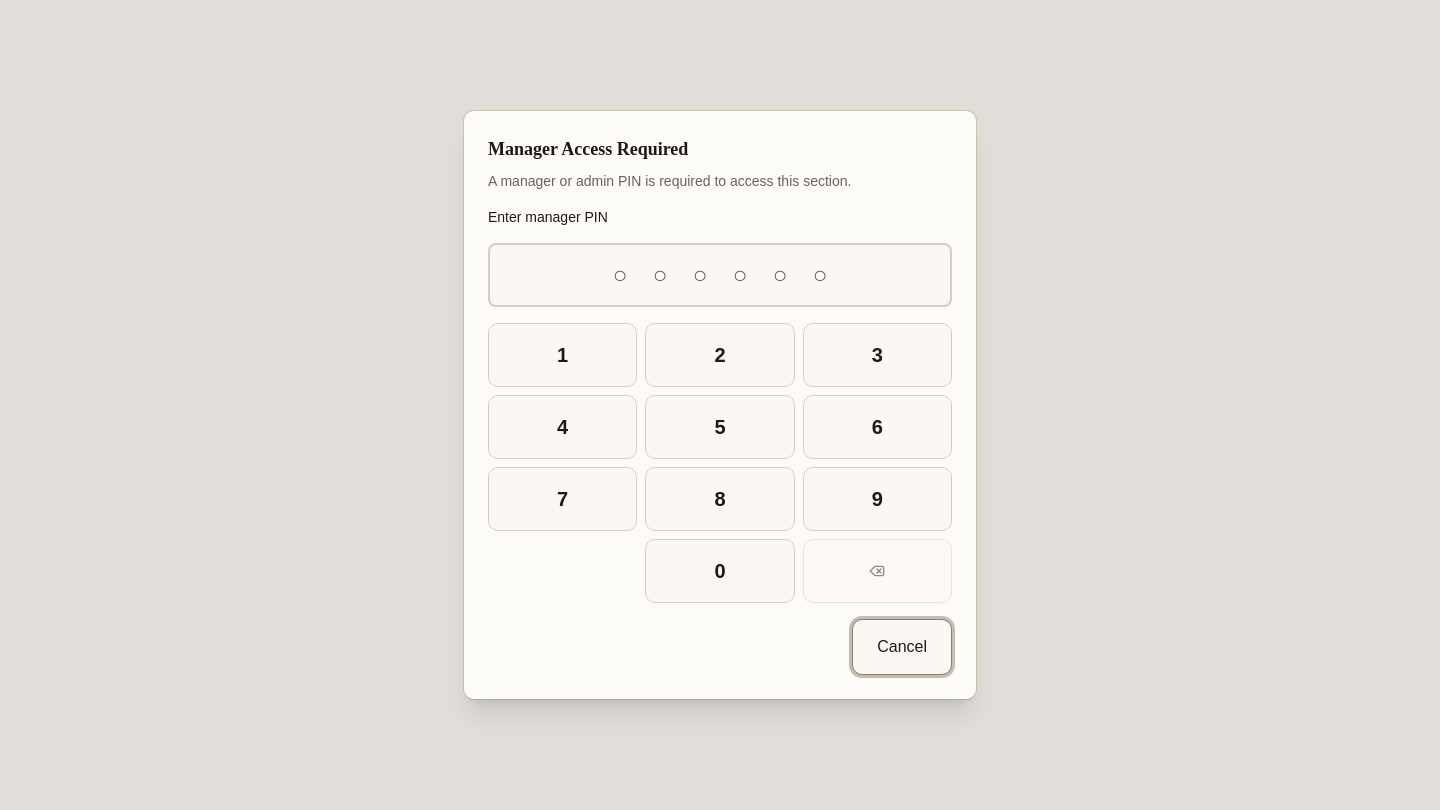
Test case: ManagerPinDialog › entering bartender PIN does not grant access — shows error
Click the button named "Key 1" at (563, 355), box 488,323 -> 637,387
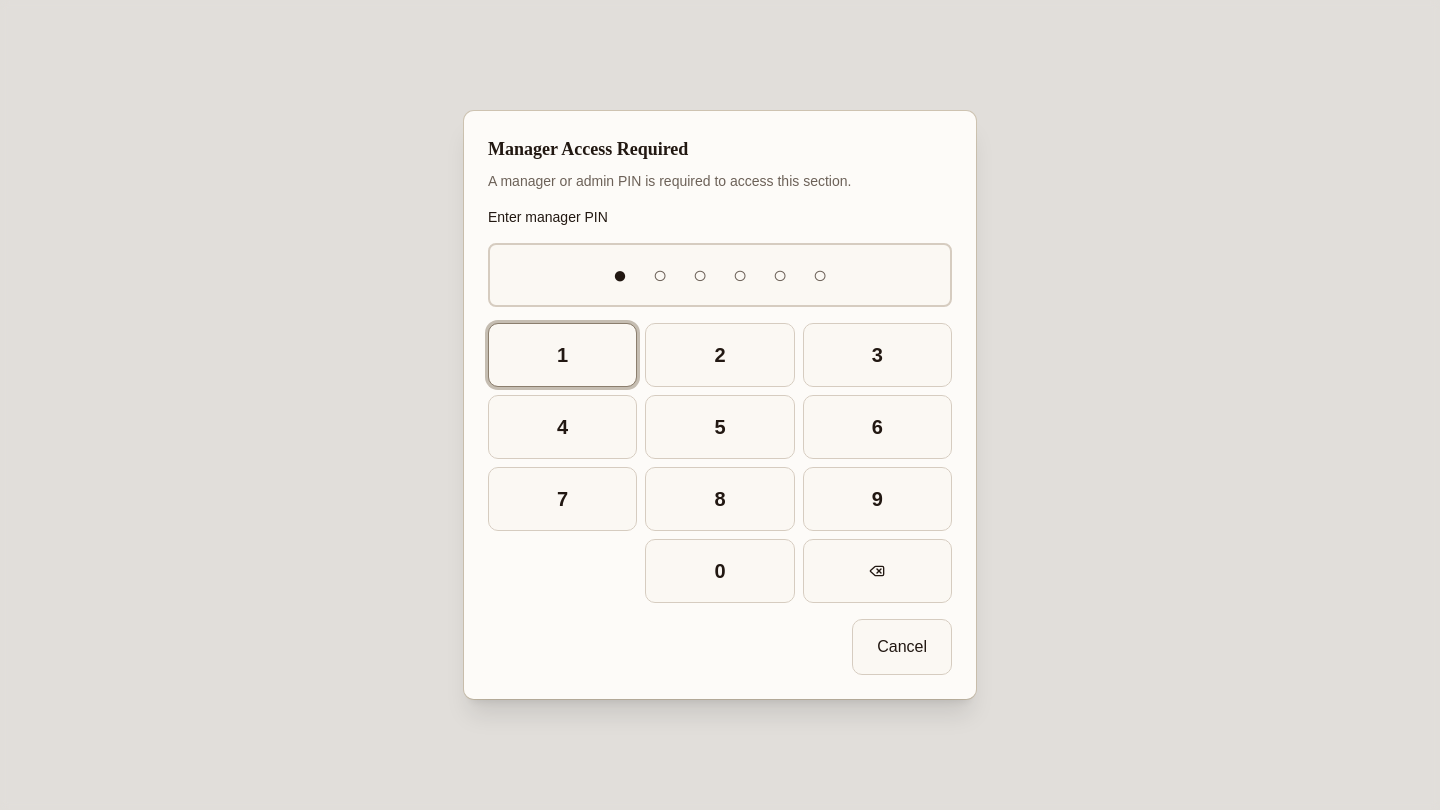
Click the button "2" at (720, 355), box 645,323 -> 795,387
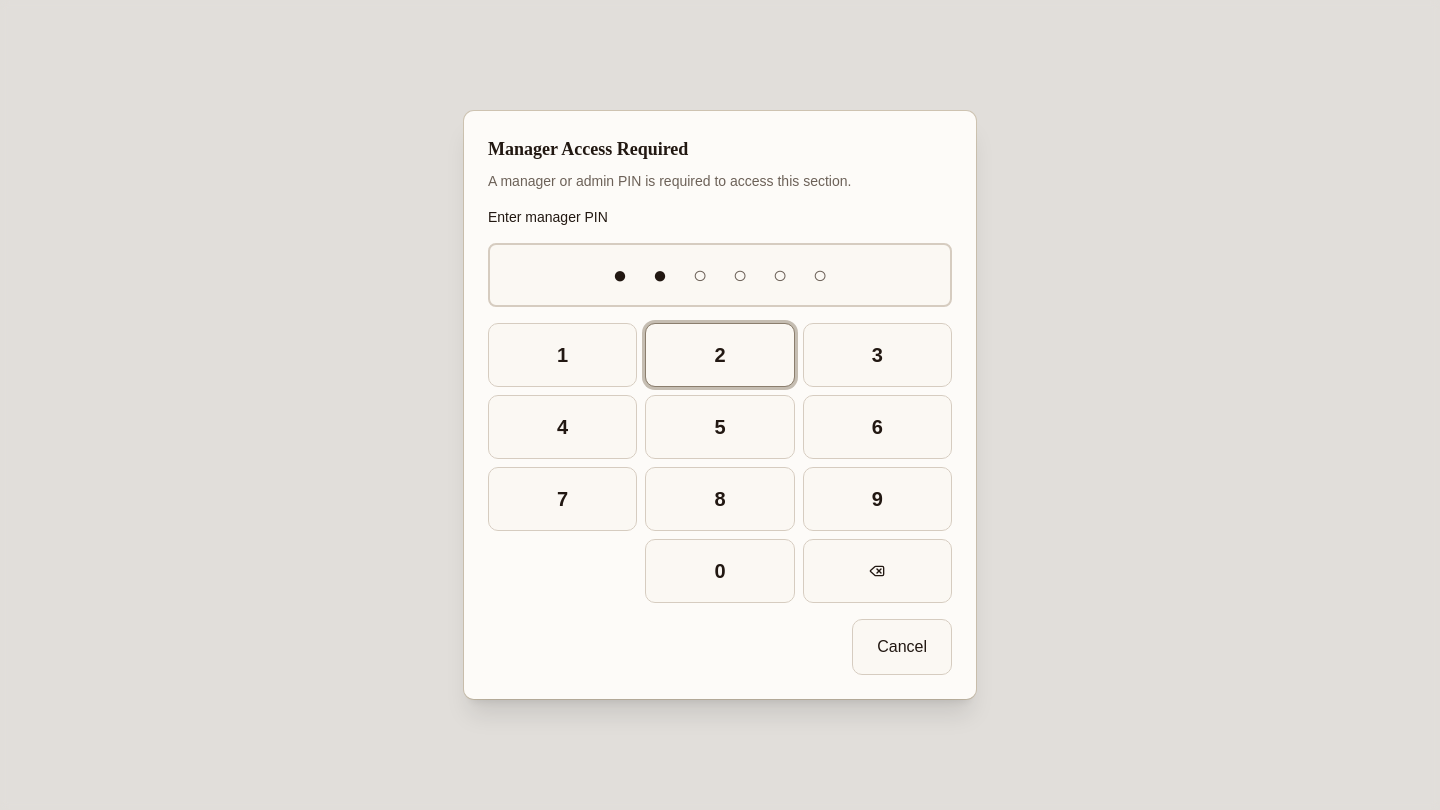
Click the button "3" at (877, 355), box 803,323 -> 952,387
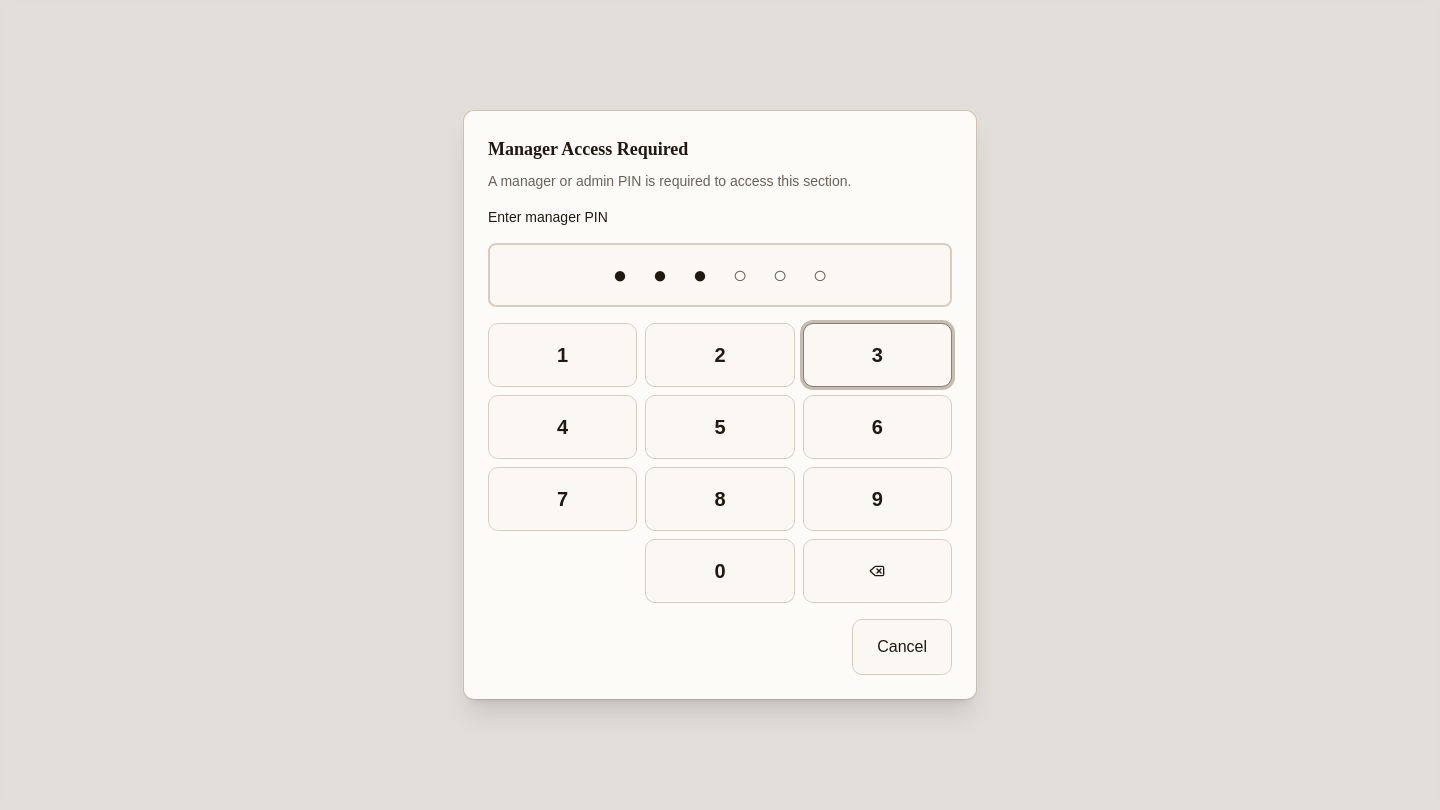
Click the button "4" at (563, 427), box 488,395 -> 637,459
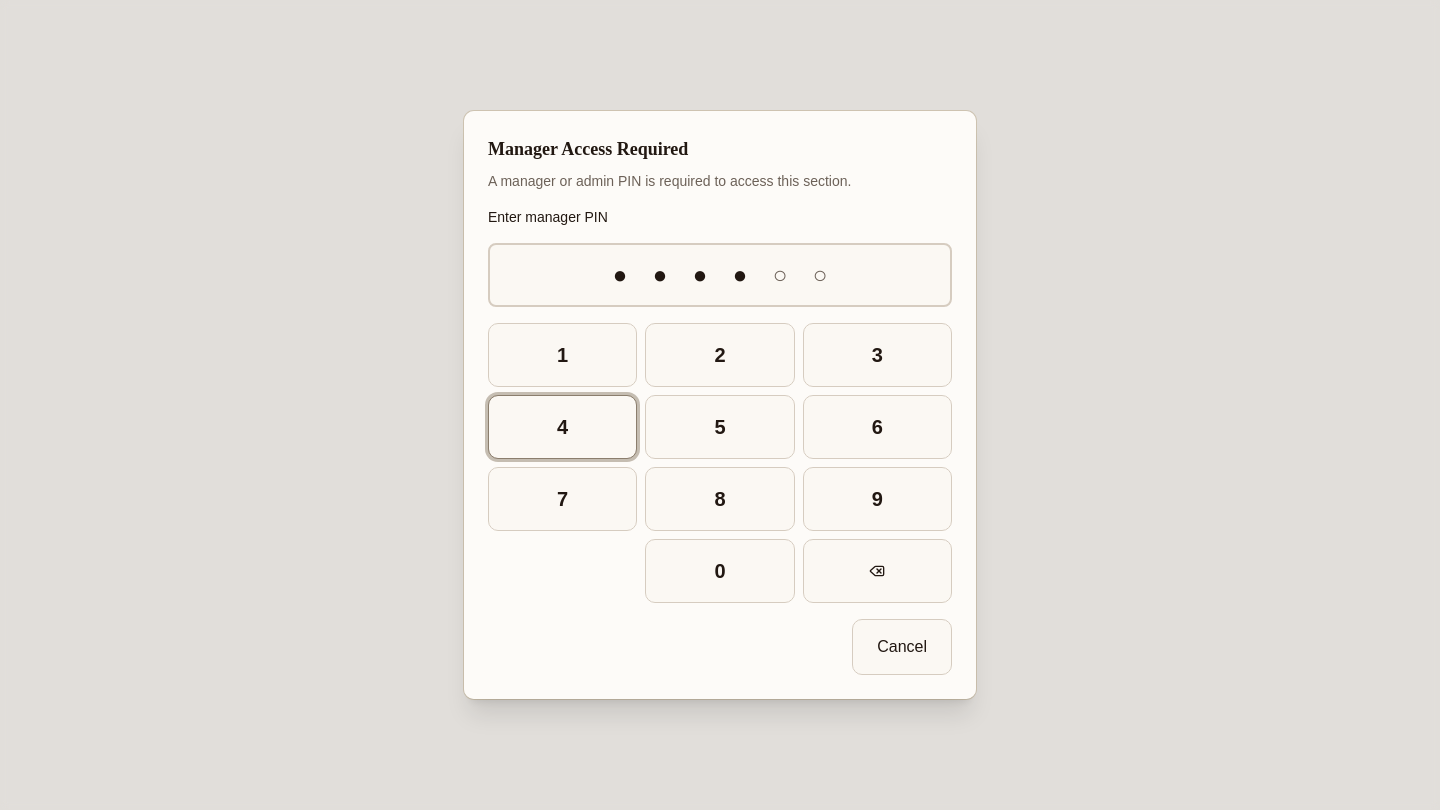
Click the button "5" at (720, 427), box 645,395 -> 795,459
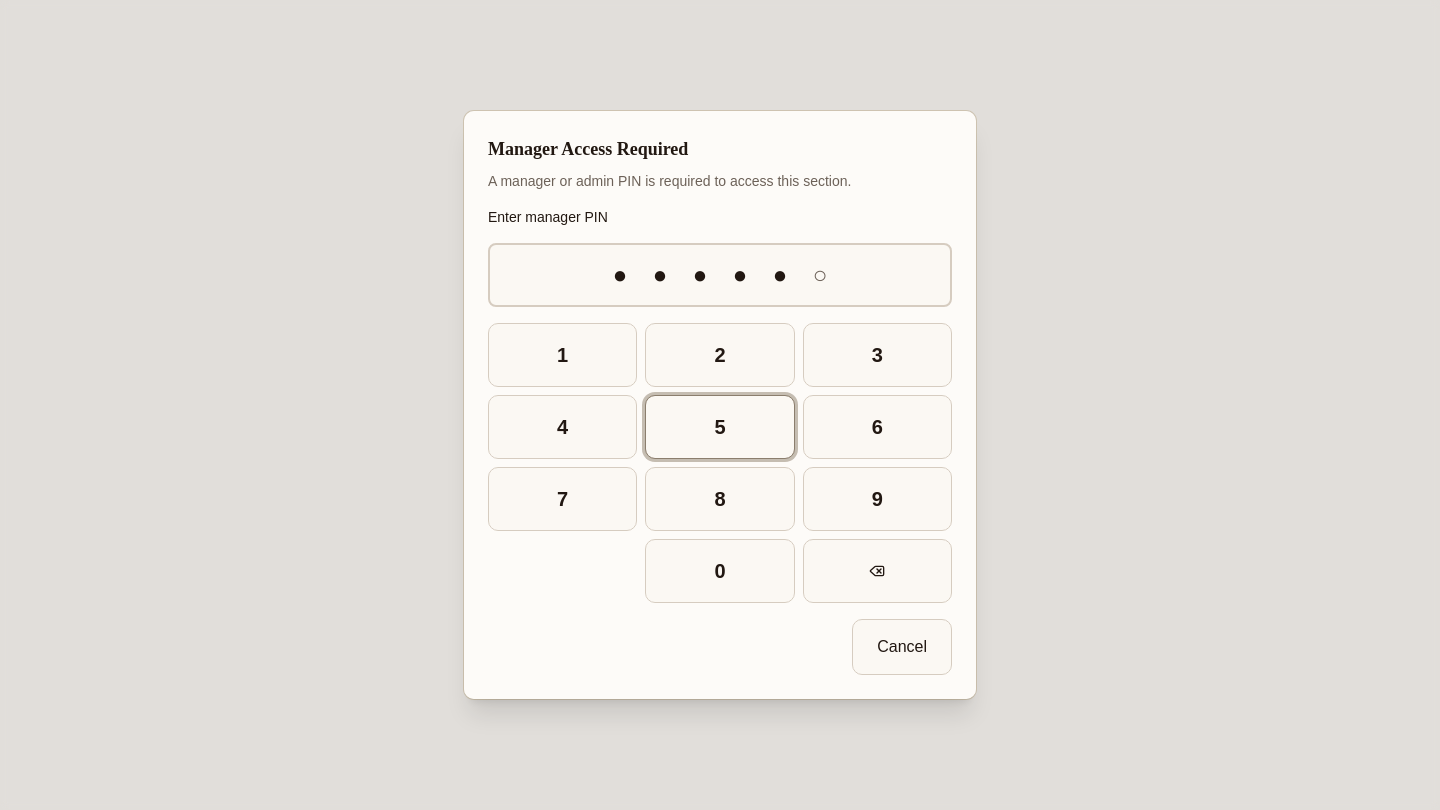
Click the button "6" at (877, 427), box 803,395 -> 952,459
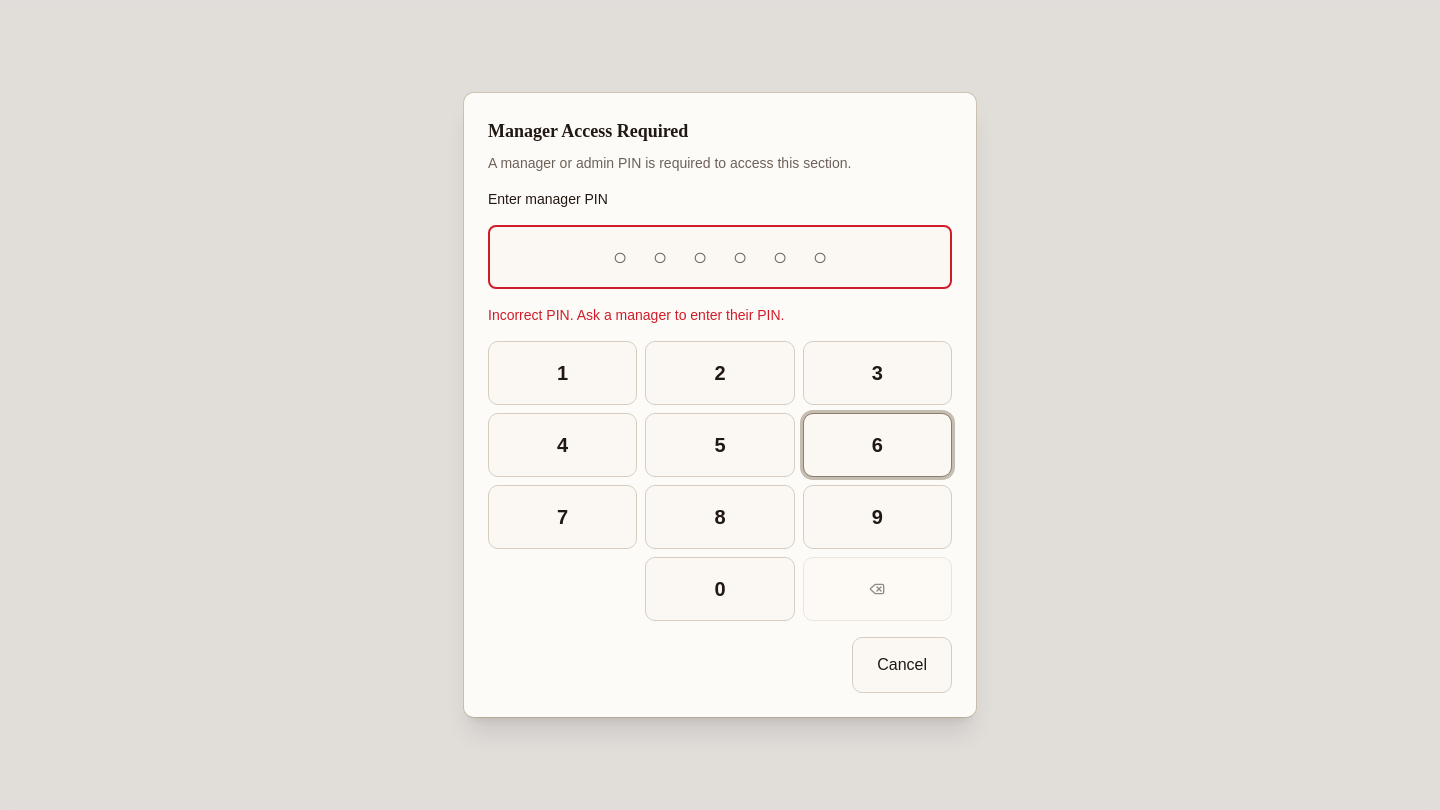
Expected: the text "Incorrect PIN. Ask a manager to enter their PIN." is shown, 488,307 -> 784,323
